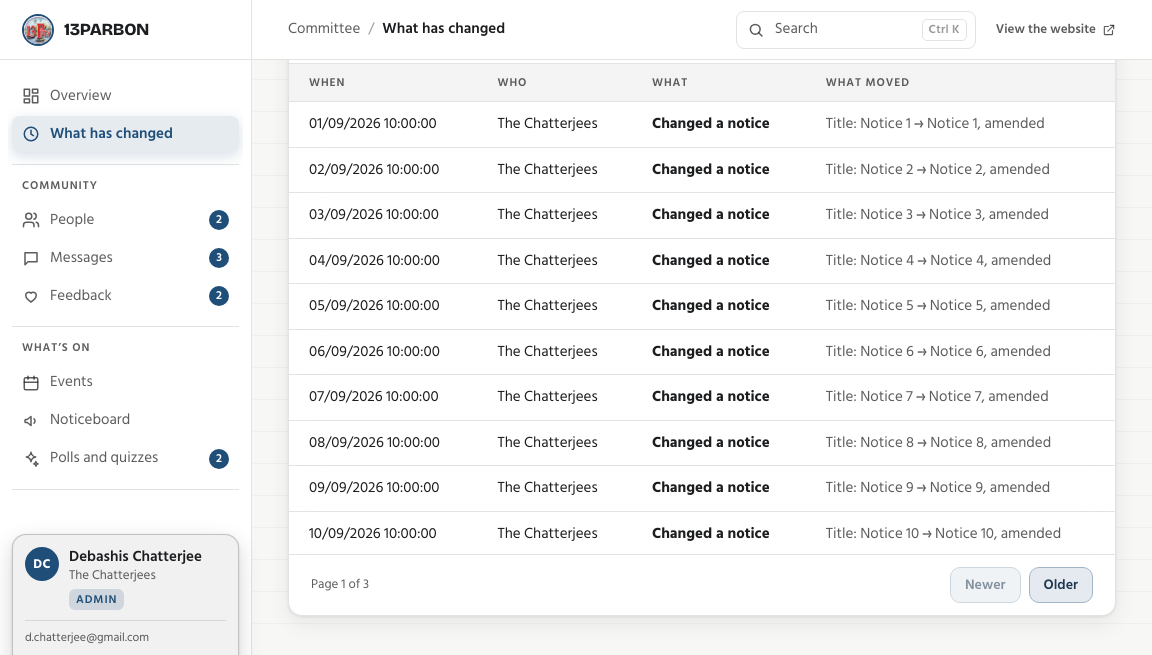
Test: what has changed › goes back and forward through the trail
(page scrolled)
Click the button "Older" at coordinates (1061, 584), box top-left (1029, 566), bottom-right (1093, 602)
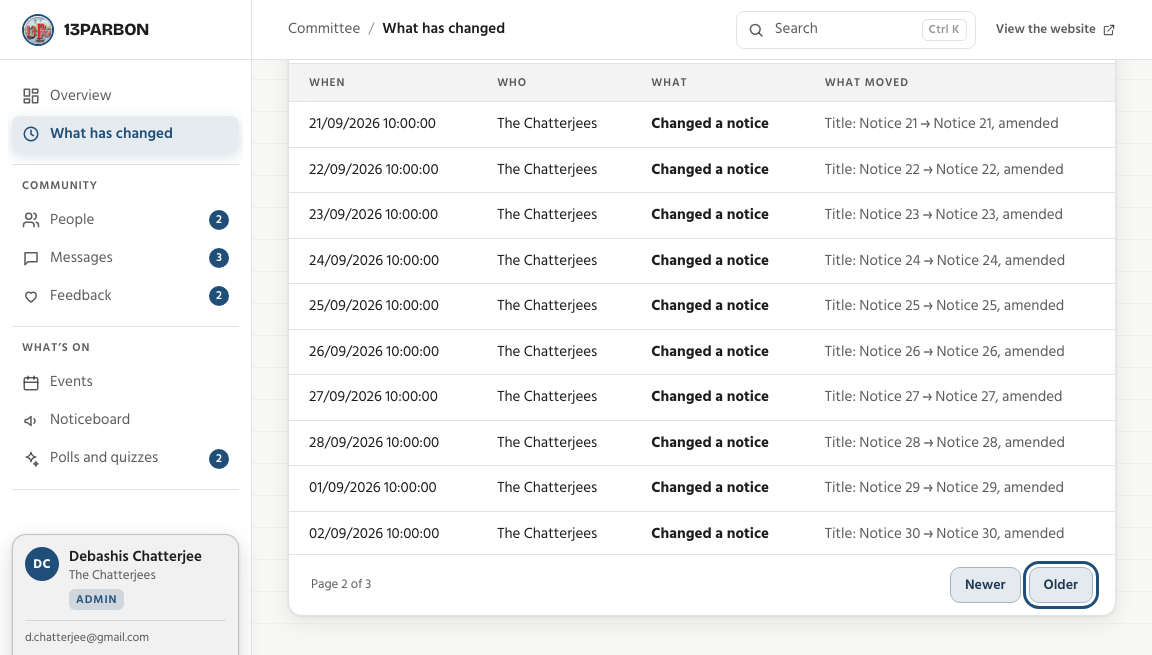
Expected: the text "21–40 of 45 changes" is shown, top-left (983, 25), bottom-right (1095, 44)
Click the button "Older" at coordinates (1061, 584), box top-left (1029, 566), bottom-right (1093, 602)
(page scrolled)
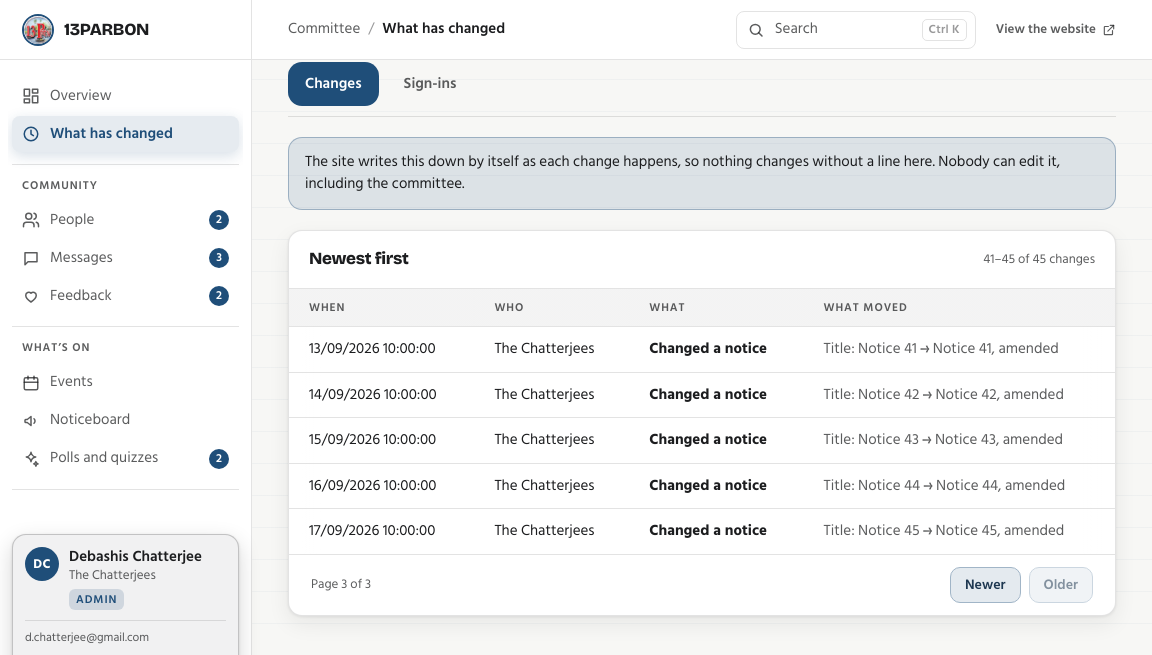
Result: the text "41–45 of 45 changes" is shown at top-left (983, 250), bottom-right (1095, 269)
Result: the button "Older" is disabled at top-left (1029, 567), bottom-right (1093, 603)
Click the button "Newer" at coordinates (985, 585), box top-left (950, 567), bottom-right (1021, 603)
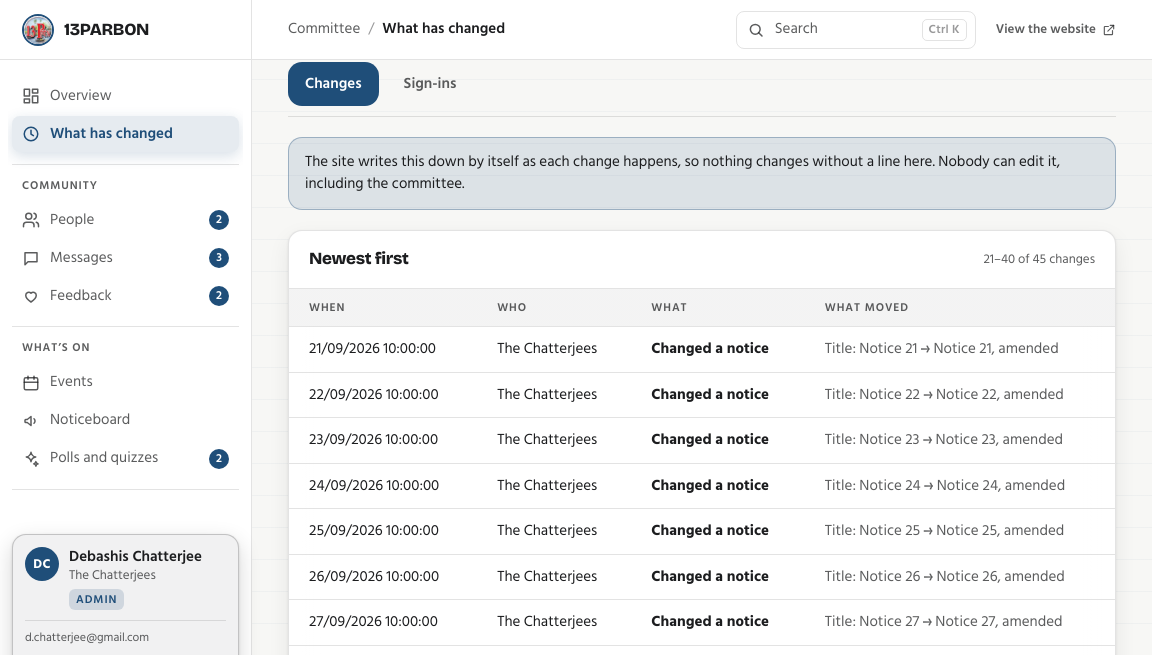
Result: the text "21–40 of 45 changes" is shown at top-left (983, 250), bottom-right (1095, 269)
